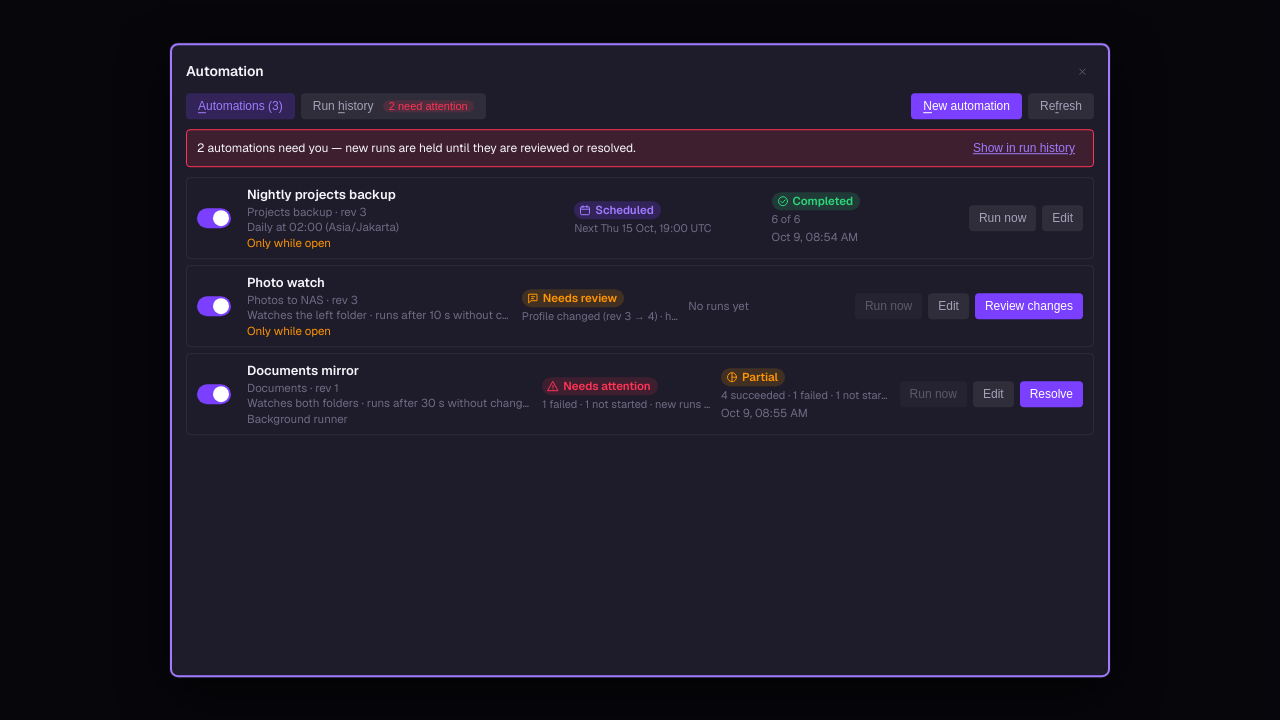
Scenario: Watch fields in the editor (WA-1.3, WA-2) › shows the watch fields instead of the schedule, with the runtime text and the WA-2.4 note
Step 1. Click the button "New automation" → (967, 106), box [911,93,1022,119]
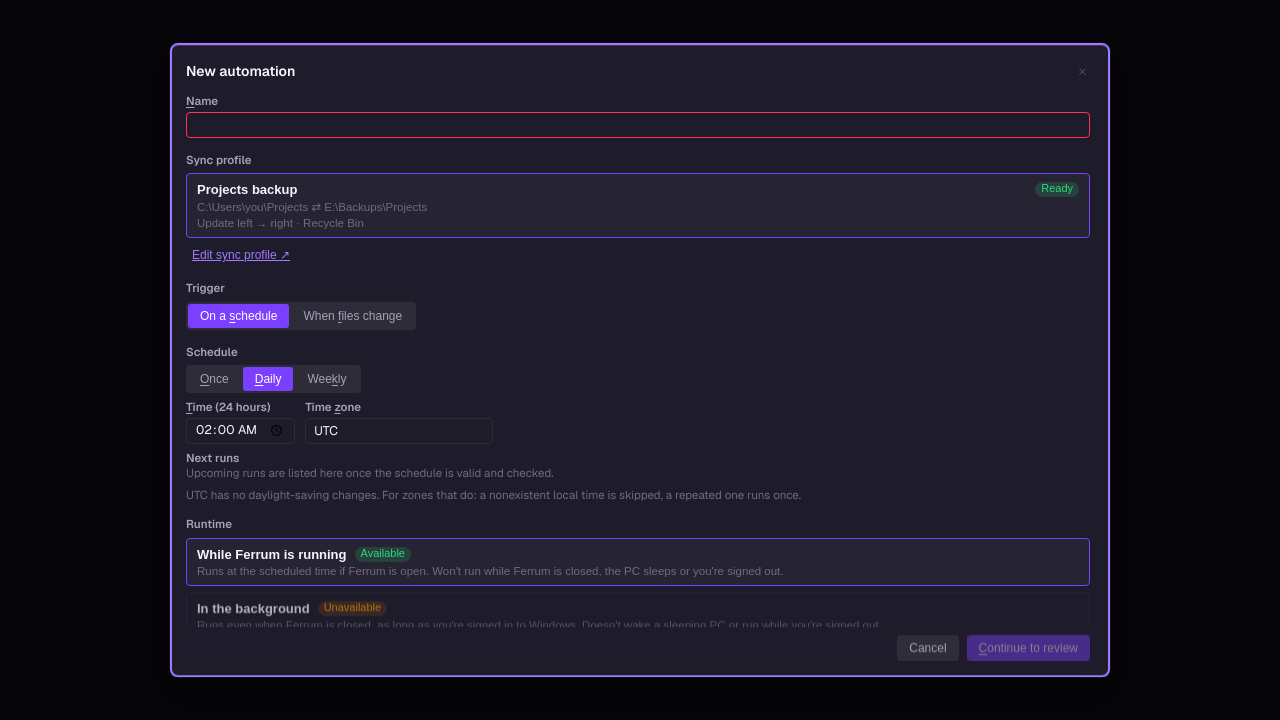
Step 2. Click the radio button labelled "When files change" → (353, 316), box [291,304,414,328]
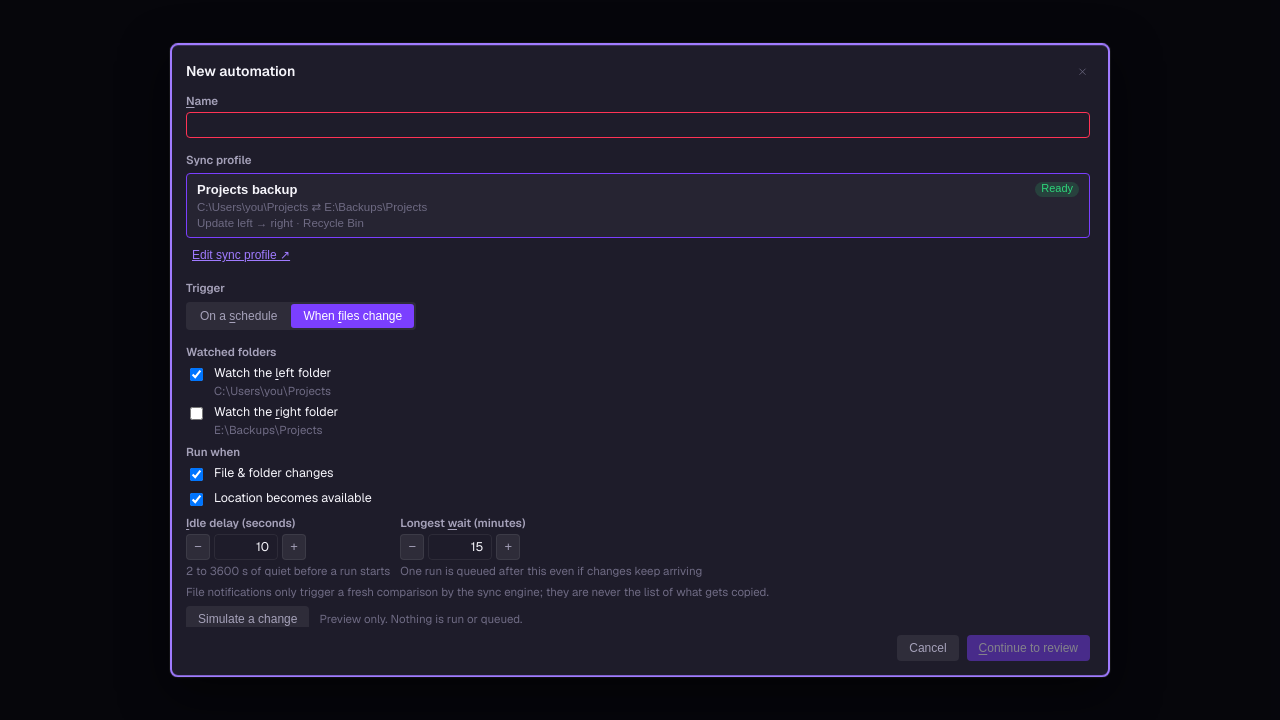
Expected: the element with test id "watch-fields" is shown, [186,344,769,632]
Expected: the element "Frequency" is gone
Expected: the text with test id "watch-note" shows "File notifications only trigger a fresh comparison by the sync engine; they are never the list of what gets copied.", [186,585,769,600]
